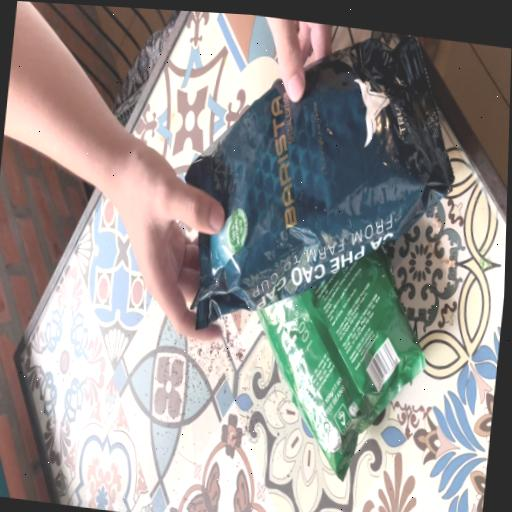cafe_hat: (185, 34, 454, 327)
cafe_xay: (259, 250, 426, 479)
